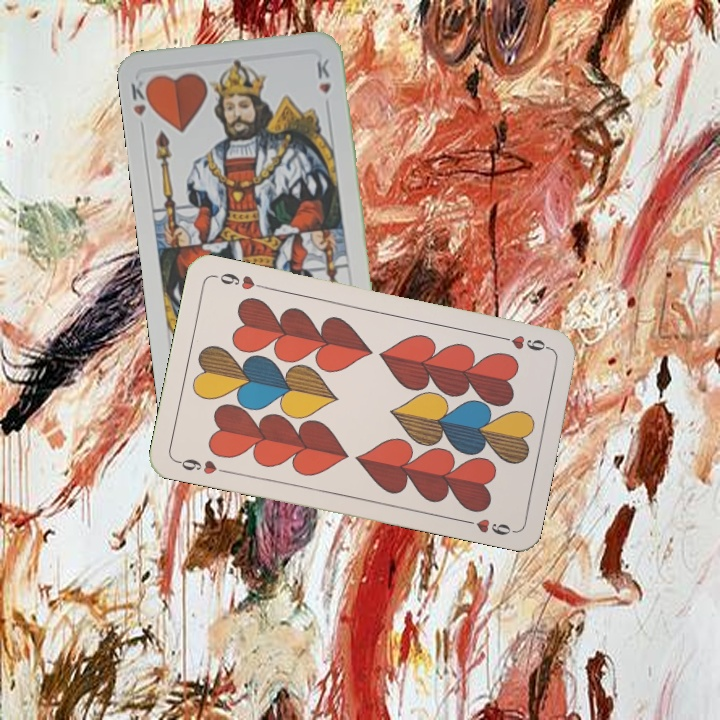H9: (172, 454, 231, 477), (494, 331, 553, 354)
HK: (126, 75, 156, 135)
